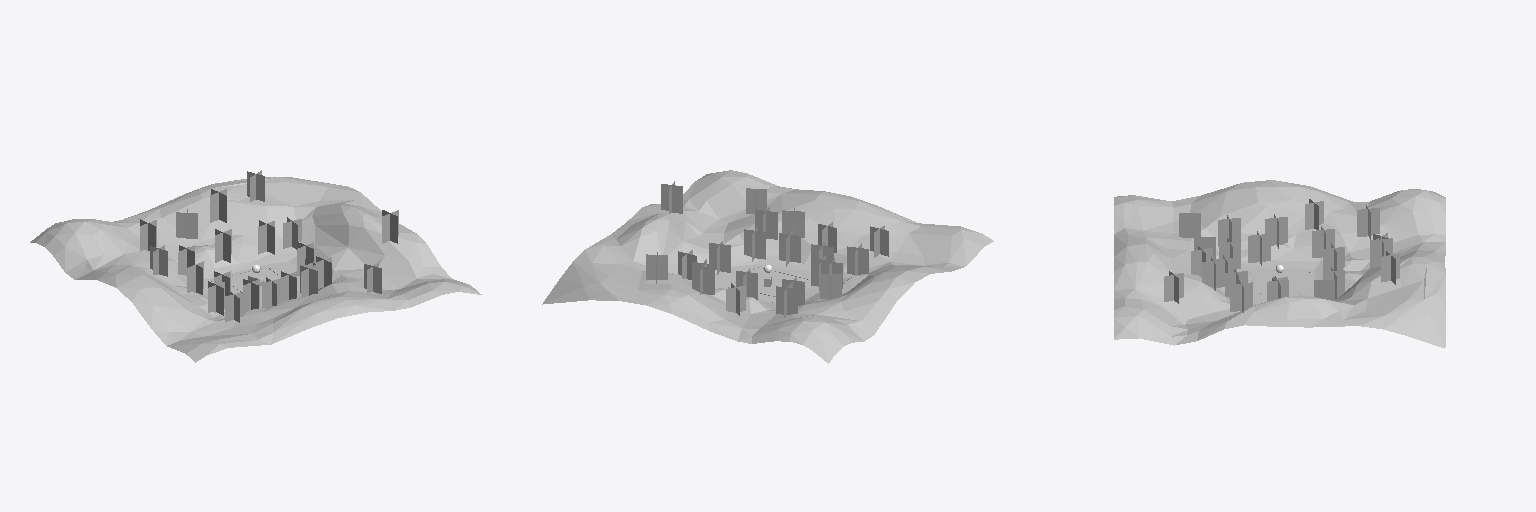
3 renders of one model, left to right at view 1: azimuth 30°, elevation 25°; view 2: azimuth 150°, elevation 25°; view 3: azimuth 270°, elevation 25°, orthographic.
Visible parts, largest first — view 1: Grass, tree_large.007; view 2: Grass, treePine_large.004, treePine_large.012, treePine_large.014, treePine_large.016, treePine_large.006, treePine_large.010, treePine_large.002, treePine_large.013, tree_large.006, treePine_large.001, tree_large.001; view 3: Grass, treePine_large.009, treePine_large.006, treePine_large.016, treePine_large.013, treePine_large.008, treePine_large.010, tree_large.002, tree_large.003, treePine_large.005.
Boxes of the visible parts, x1,y1,x2,y2 form: Grass: [30, 177, 481, 362]; tree_large.007: [176, 209, 197, 238]; Grass: [542, 170, 993, 363]; treePine_large.004: [692, 262, 714, 294]; treePine_large.012: [779, 231, 800, 266]; treePine_large.014: [744, 227, 765, 261]; treePine_large.016: [661, 181, 682, 213]; treePine_large.006: [776, 283, 797, 317]; treePine_large.010: [847, 243, 868, 275]; treePine_large.002: [709, 241, 730, 274]; treePine_large.013: [755, 207, 777, 239]; tree_large.006: [646, 252, 667, 283]; treePine_large.001: [782, 208, 804, 237]; tree_large.001: [820, 273, 841, 299]; Grass: [1114, 180, 1445, 348]; treePine_large.009: [1248, 231, 1270, 265]; treePine_large.006: [1357, 205, 1379, 239]; treePine_large.016: [1230, 280, 1252, 312]; treePine_large.013: [1202, 257, 1224, 290]; treePine_large.008: [1265, 214, 1287, 248]; treePine_large.010: [1218, 215, 1240, 246]; tree_large.002: [1179, 213, 1200, 237]; tree_large.003: [1164, 271, 1183, 303]; treePine_large.005: [1312, 226, 1334, 257].
Bounding box in the file's own units: 38.04 × 7.28 × 38.05.